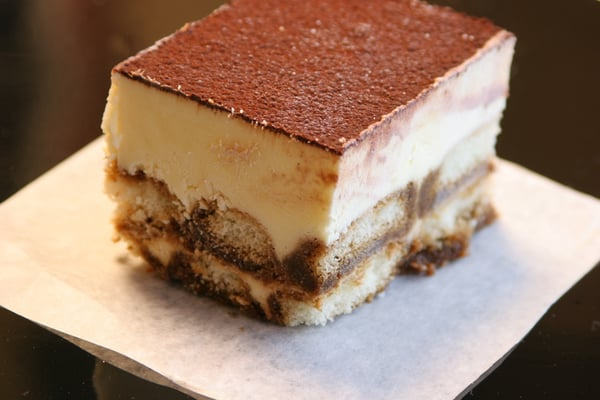sushi: (100, 0, 510, 328)
